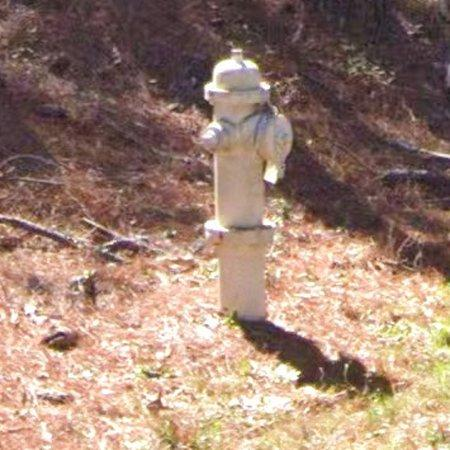a fire hydrant: (201, 50, 293, 321)
